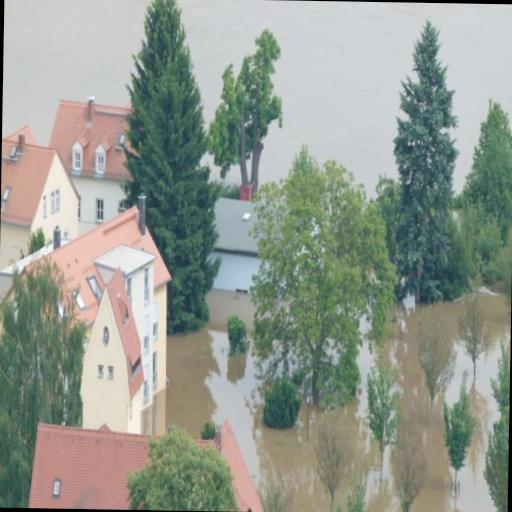flood: (180, 0, 512, 196), (166, 291, 330, 512), (336, 304, 472, 512), (2, 0, 148, 142), (458, 293, 511, 512)
house: (73, 239, 155, 435), (35, 427, 152, 510), (0, 140, 69, 240), (54, 94, 132, 182)
